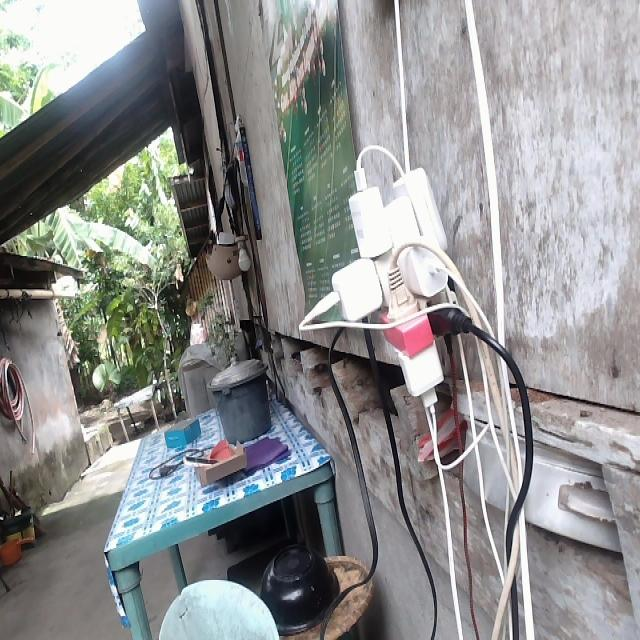-: (303, 153, 474, 420)
